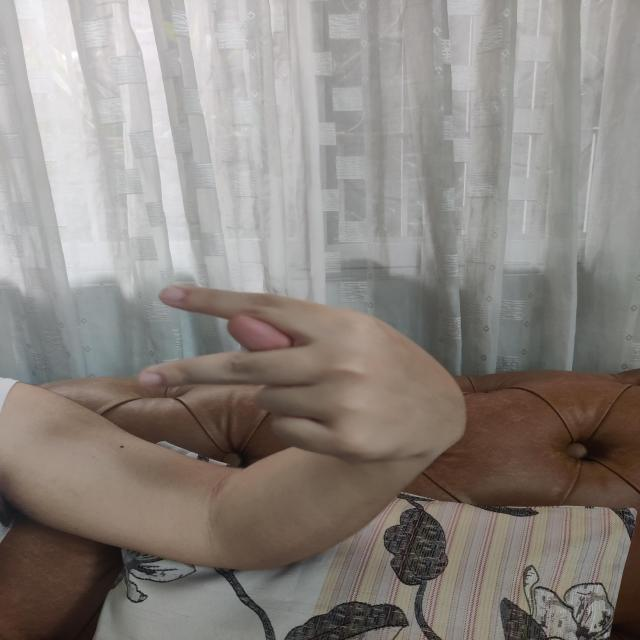K: (136, 282, 468, 463)
